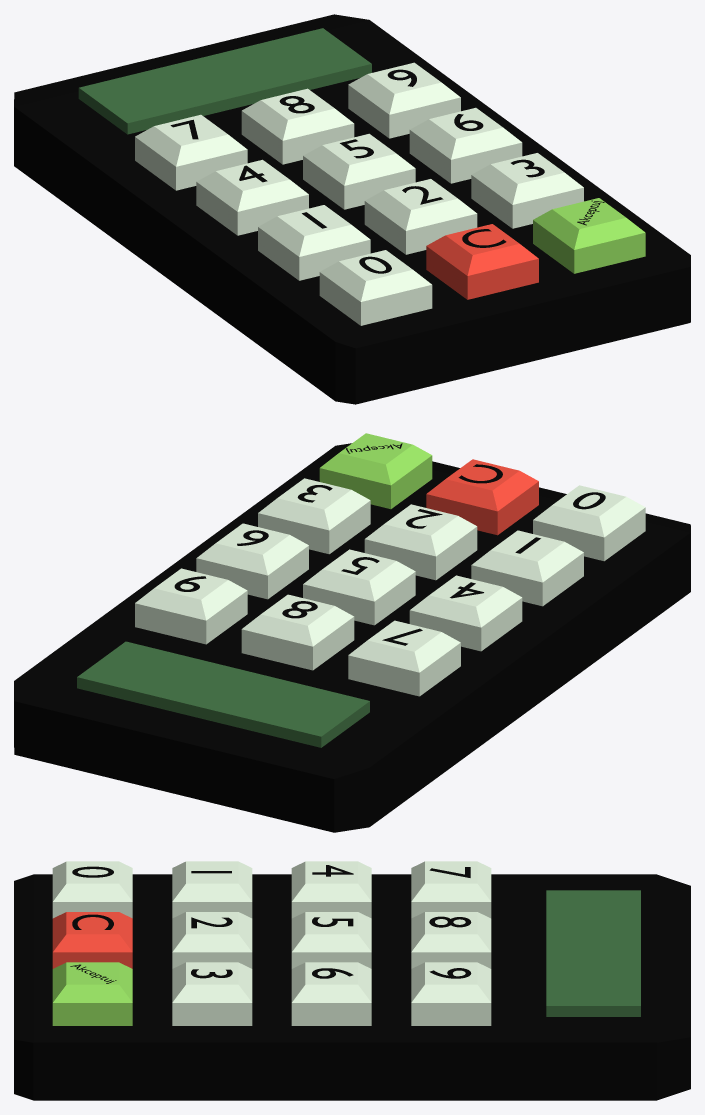
File: klawiatura.fbx
3 renders of one model, top to bottom at view 1: azimuth 30°, elevation 25°; view 2: azimuth 150°, elevation 25°; view 3: azimuth 270°, elevation 25°, orthographic. The views are drawn at different scales.
Visible parts, largest first — view 1: Magic_Device, Display, Button_SEND, Button_0, Button_C, Button_1, Button_2, Button_7, Button_3, Button_6, Button_5, Button_4 (+2 smaller); view 2: Magic_Device, Display, Button_7, Button_9, Button_8, Button_SEND, Button_1, Button_2, Button_4, Button_3, Button_5, Button_6 (+2 smaller); view 3: Magic_Device, Display, Button_SEND, Button_3, Button_6, Button_9, Button_1, Button_4, Button_7, Button_2, Button_5, Button_0 (+2 smaller).
Part boxes in pixels (<box>): Magic_Device: <box>14,14,690,404</box>; Display: <box>78,28,371,134</box>; Button_SEND: <box>533,198,645,273</box>; Button_0: <box>319,250,432,325</box>; Button_C: <box>426,224,538,299</box>; Button_1: <box>258,205,370,280</box>; Button_2: <box>364,179,477,254</box>; Button_7: <box>135,114,247,190</box>; Button_3: <box>471,153,583,228</box>; Button_6: <box>409,107,522,183</box>; Button_5: <box>303,133,415,209</box>; Button_4: <box>196,159,308,235</box>; Magic_Device: <box>14,443,690,832</box>; Display: <box>77,641,369,747</box>; Button_7: <box>348,620,460,696</box>; Button_9: <box>135,568,247,644</box>; Button_8: <box>241,594,354,670</box>; Button_SEND: <box>319,433,432,509</box>; Button_1: <box>471,530,583,606</box>; Button_2: <box>364,504,477,580</box>; Button_4: <box>409,575,522,651</box>; Button_3: <box>258,478,370,554</box>; Button_5: <box>303,549,415,625</box>; Button_6: <box>196,523,308,599</box>; Magic_Device: <box>14,874,690,1100</box>; Display: <box>546,890,640,1016</box>; Button_SEND: <box>52,962,132,1025</box>; Button_3: <box>172,962,252,1025</box>; Button_6: <box>291,962,371,1025</box>; Button_9: <box>411,962,491,1025</box>; Button_1: <box>172,861,252,918</box>; Button_4: <box>291,861,371,918</box>; Button_7: <box>411,861,491,918</box>; Button_2: <box>172,912,252,968</box>; Button_5: <box>291,912,371,968</box>; Button_0: <box>52,861,132,918</box>.
Bounding box in the file's own units: 100 × 25.92 × 170.
